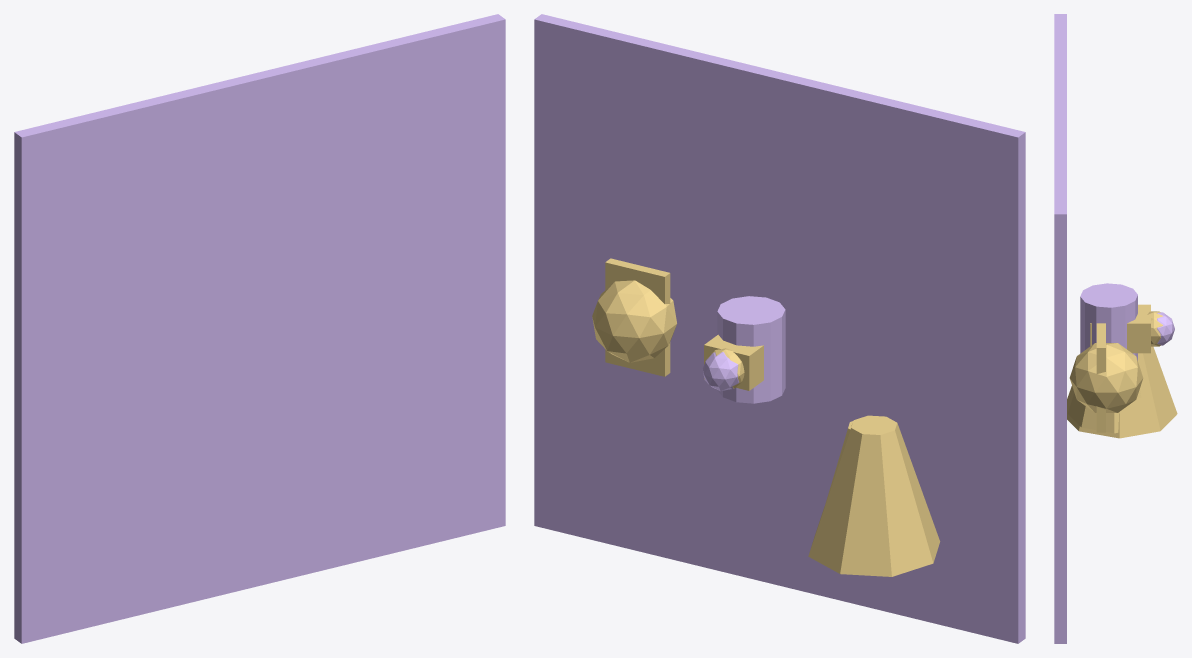
The model's file is civ-god-sim-kit.glb.
3 renders of one model, left to right at view 1: azimuth 30°, elevation 25°; view 2: azimuth 150°, elevation 25°; view 3: azimuth 270°, elevation 25°, orthographic. The views are drawn at different scales.
Parts seen in each view (by area): view 1: ENVIRONMENT_GROUND; view 2: ENVIRONMENT_GROUND, ENVIRONMENT_LANDMARK, OBSTACLE, PLAYER_BODY, PROFILE_OBSTACLE_DETAIL, PROFILE_PLAYER_DETAIL, PROFILE_PLAYER_HEAD; view 3: ENVIRONMENT_GROUND, OBSTACLE, ENVIRONMENT_LANDMARK, PLAYER_BODY, PROFILE_PLAYER_DETAIL, PROFILE_ENVIRONMENT_DETAIL, PROFILE_OBSTACLE_DETAIL, PROFILE_PLAYER_HEAD, PLAYER_CORE.
Part boxes in pixels (x1,y1,x2,y2): ENVIRONMENT_GROUND: (14,14,505,643); ENVIRONMENT_GROUND: (534,14,1025,643); ENVIRONMENT_LANDMARK: (808,415,940,576); OBSTACLE: (592,280,676,362); PLAYER_BODY: (717,296,785,403); PROFILE_OBSTACLE_DETAIL: (605,258,670,376); PROFILE_PLAYER_DETAIL: (704,334,763,390); PROFILE_PLAYER_HEAD: (702,352,738,391); ENVIRONMENT_GROUND: (1054,14,1066,643); OBSTACLE: (1069,343,1143,412); ENVIRONMENT_LANDMARK: (1067,346,1177,438); PLAYER_BODY: (1080,283,1137,360); PROFILE_PLAYER_DETAIL: (1090,304,1150,353); PROFILE_ENVIRONMENT_DETAIL: (1067,390,1141,433); PROFILE_OBSTACLE_DETAIL: (1096,323,1105,432); PROFILE_PLAYER_HEAD: (1157,312,1174,345); PLAYER_CORE: (1147,311,1162,346).
Size of what is drawn, in the model's own units: 9 by 9 by 2.34.
